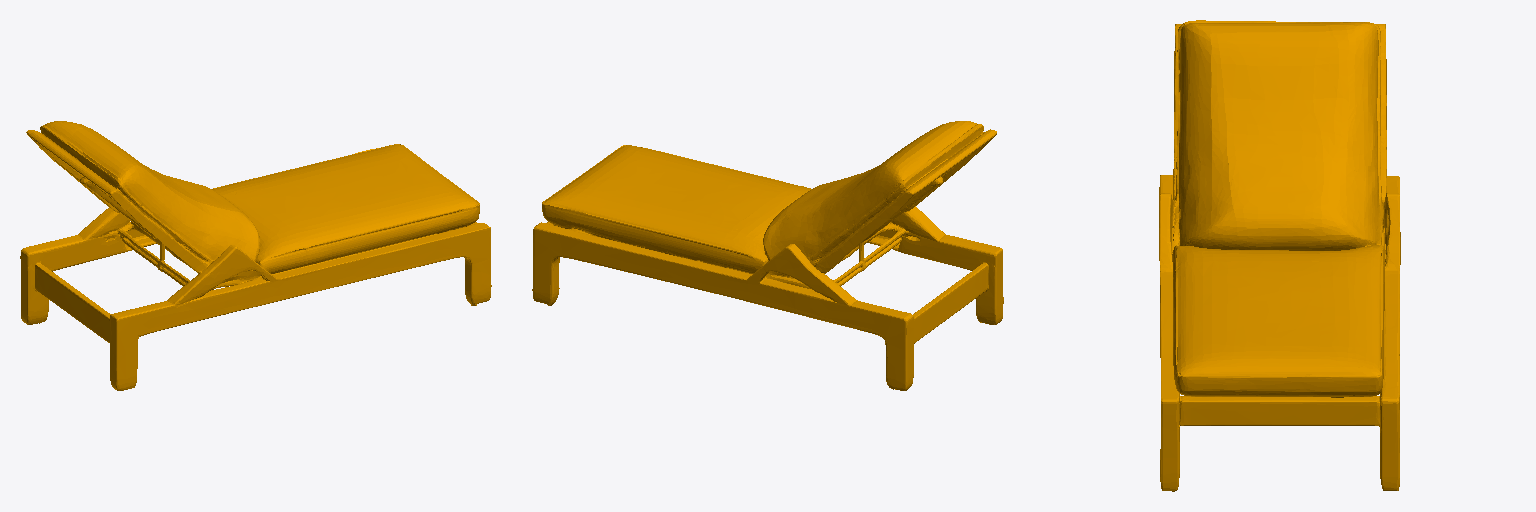
URDF robot description (lounge_chair_20):
<?xml version="1.0" ?>
<robot name="lounge_chair_20">
   <link name="lounge_chair_20">
      <visual>
         <origin xyz="0 0 0" rpy="1.5708 0.0 0.0"/>
         <geometry>
            <mesh filename="mesh/lounge_chair_20.obj" scale="1.0 1.0 1.0"/>
         </geometry>
      </visual>
      <collision>
         <origin xyz="0 0 0" rpy="1.5708 0.0 0.0"/>
         <geometry>
            <mesh filename="mesh/lounge_chair_20_collision.obj" scale="1.0 1.0 1.0"/>
         </geometry>
         <gazebo>
            <mu1>0.80</mu1>
            <mu2>0.60</mu2>
         </gazebo>
      </collision>
      <inertial>
         <mass value="15.0000"/>
         <origin xyz="0 0 0"/>
         <inertia ixx="1.0" ixy="0.0" ixz="0.0" iyy="1.0" iyz="0.0" izz="1.0"/>
      </inertial>
      <extra_info>
         <scale>1.447097</scale>
         <version>v0.1.5</version>
         <category>lounge_chair</category>
         <description>modern lounge chair with orange frame and black cushioned seat and backrest</description>
         <min_height>0.7</min_height>
         <max_height>0.85</max_height>
         <real_height>0.775</real_height>
         <min_mass>12.0</min_mass>
         <max_mass>18.0</max_mass>
         <generate_time>20251021115302</generate_time>
         <gs_model>mesh/lounge_chair_20_gs.ply</gs_model>
      </extra_info>
   </link>
   <custom_data>
      <quality>
         <MeshGeoChecker>YES</MeshGeoChecker>
         <ImageSegChecker>YES</ImageSegChecker>
         <ImageAestheticChecker>4.717807292938232</ImageAestheticChecker>
         <overall>YES</overall>
      </quality>
   </custom_data>
</robot>

--- What the picture shows (computed from the rendered views, not written in the file) ---
3 views of the same robot in one strip: view 1: azimuth 30°, elevation 25°; view 2: azimuth 150°, elevation 25°; view 3: azimuth 270°, elevation 25° (orthographic).
Model lounge_chair_20 with 1 links and 0 joints (none), rooted at lounge_chair_20, posed all joints at 0.
Visible links, largest first — view 1: lounge_chair_20; view 2: lounge_chair_20; view 3: lounge_chair_20.
Link boxes in pixels (x1,y1,x2,y2): lounge_chair_20: [20, 121, 491, 390]; lounge_chair_20: [532, 121, 1003, 390]; lounge_chair_20: [1159, 20, 1400, 491].
Bounding box of the posed robot: 1.45 × 0.6487 × 0.775 m (x, y, z).
Meshes: 1 distinct files referenced, 1 mesh visuals loaded (1 OBJ).
